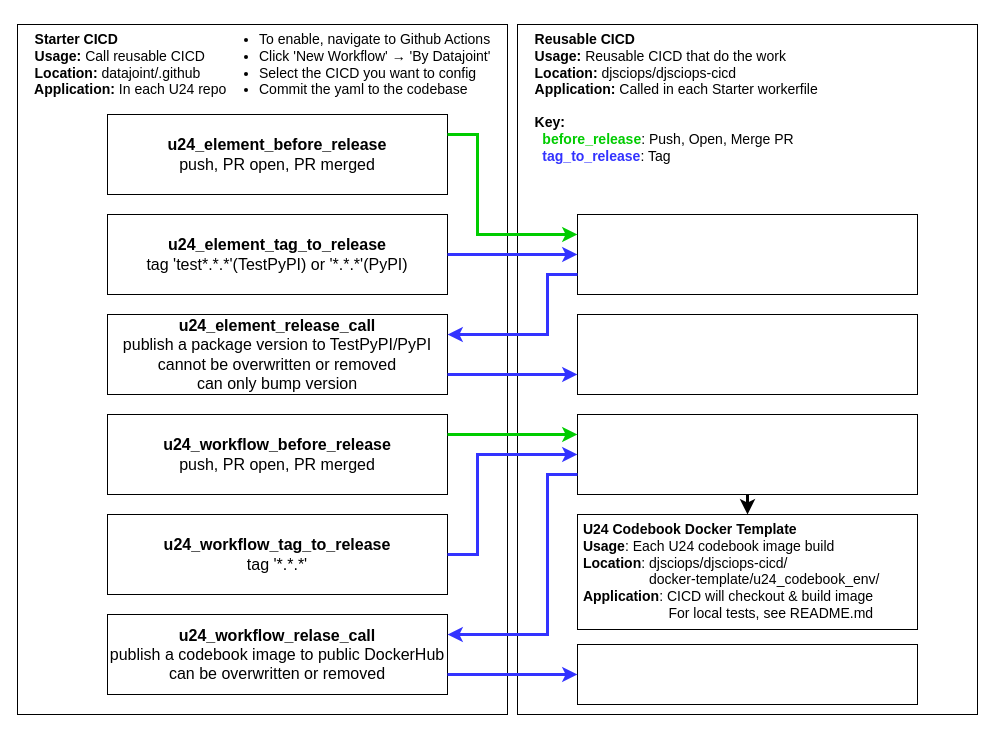
Some shapes in this 995 by 732 pixel diagram are drawn without their labels. Here are the shapes that lost their labels. From the top down, the centre of each, then its label:
At (747,254): "u24_element_build".
At (747,354): "u24_element_release".
At (747,454): "u24_workflow_build".
At (747,674): "u24_workflow_release".
